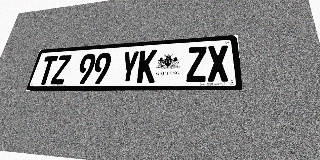9: (75, 53, 97, 84), (91, 52, 112, 84)
K: (136, 49, 157, 83)
T: (36, 56, 58, 85)
X: (207, 45, 230, 82)
Y: (119, 50, 140, 83)
Z: (186, 46, 207, 82), (50, 55, 72, 84)
